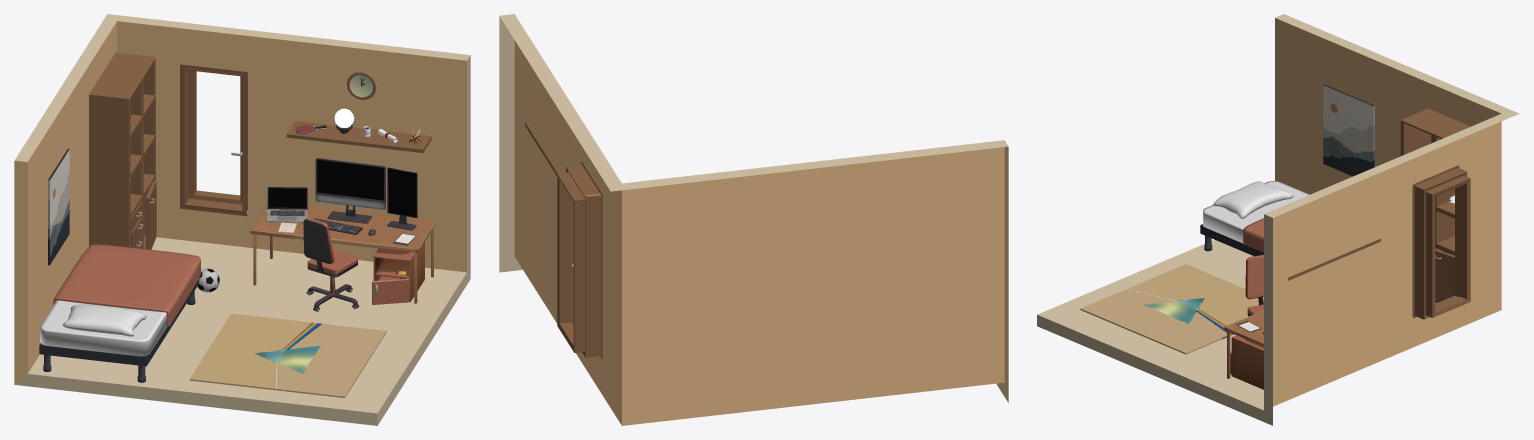
The model's file is room.glb.
3 views of the same model, side by side, from view 1: azimuth 30°, elevation 25°; view 2: azimuth 150°, elevation 25°; view 3: azimuth 270°, elevation 25° (orthographic). The views are drawn at different scales.
Parts seen in each view (by area): view 1: Cube.001, Final, Plane.002, Cube.016, Cube.015, Cube.026, Cube.002, Final.001, Screen, Cube.173, Cube.003, Plane (+3 smaller); view 2: Cube.001, Cube.003, Cube.002; view 3: Cube.001, Plane.002, Plane, Cube.026, Cube.003, Cube.002, Cube.016, Final, Final.001, Cube.012, Cube.015.
Part boxes in pixels (x1=…): Cube.001: x1=14, y1=14, x2=470, y2=425; Final: x1=250, y1=158, x2=436, y2=304; Plane.002: x1=189, y1=313, x2=386, y2=397; Cube.016: x1=89, y1=52, x2=155, y2=248; Cube.015: x1=53, y1=244, x2=200, y2=326; Cube.026: x1=39, y1=279, x2=198, y2=382; Cube.002: x1=180, y1=64, x2=247, y2=216; Final.001: x1=303, y1=217, x2=359, y2=311; Screen: x1=317, y1=159, x2=383, y2=200; Cube.173: x1=286, y1=120, x2=431, y2=152; Cube.003: x1=188, y1=70, x2=242, y2=204; Plane: x1=48, y1=148, x2=69, y2=265; Cube.001: x1=499, y1=14, x2=1008, y2=425; Cube.003: x1=557, y1=172, x2=585, y2=352; Cube.002: x1=566, y1=161, x2=602, y2=359; Cube.001: x1=1037, y1=14, x2=1519, y2=425; Plane.002: x1=1080, y1=264, x2=1263, y2=354; Plane: x1=1323, y1=84, x2=1374, y2=176; Cube.026: x1=1200, y1=181, x2=1309, y2=256; Cube.003: x1=1426, y1=175, x2=1470, y2=317; Cube.002: x1=1412, y1=165, x2=1467, y2=319; Cube.016: x1=1400, y1=108, x2=1470, y2=255; Final: x1=1224, y1=310, x2=1263, y2=389; Final.001: x1=1245, y1=254, x2=1263, y2=316; Cube.012: x1=1435, y1=249, x2=1454, y2=303; Cube.015: x1=1243, y1=218, x2=1263, y2=252.
Bounding box in the file's own units: 4.46 × 2.12 × 4.46.
28 materials, 9 textured.
